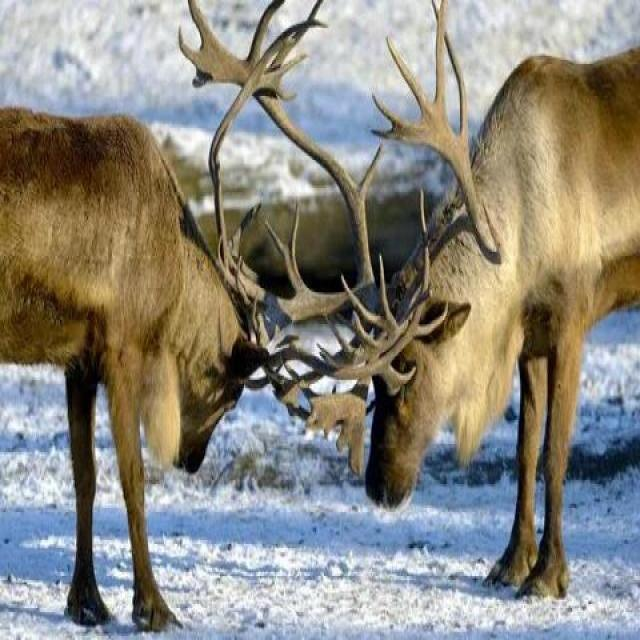deer: (318, 11, 640, 610), (0, 70, 309, 574)
